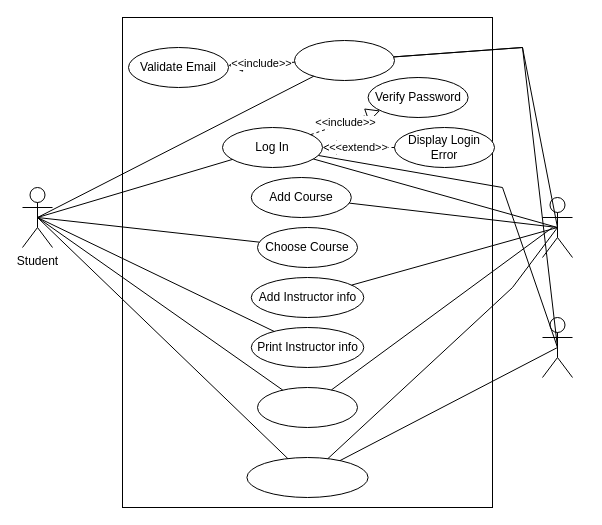
Image size: 602x525. Some labels were removed from this diagram. The box of each missing label's shape, as (x1, y1, x2, y2) in pixels:
Admin: (542, 196, 572, 258)
Instructorr: (542, 316, 572, 378)
Register: (294, 40, 394, 80)
Transaction Fund: (256, 386, 358, 428)
Update Student's info: (246, 456, 368, 498)
